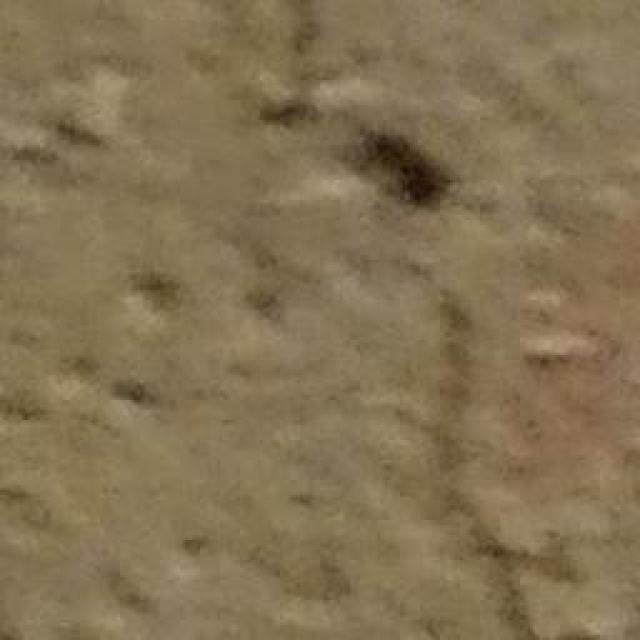Annular: (259, 77, 463, 224)
Longitudinal: (379, 230, 549, 640)
